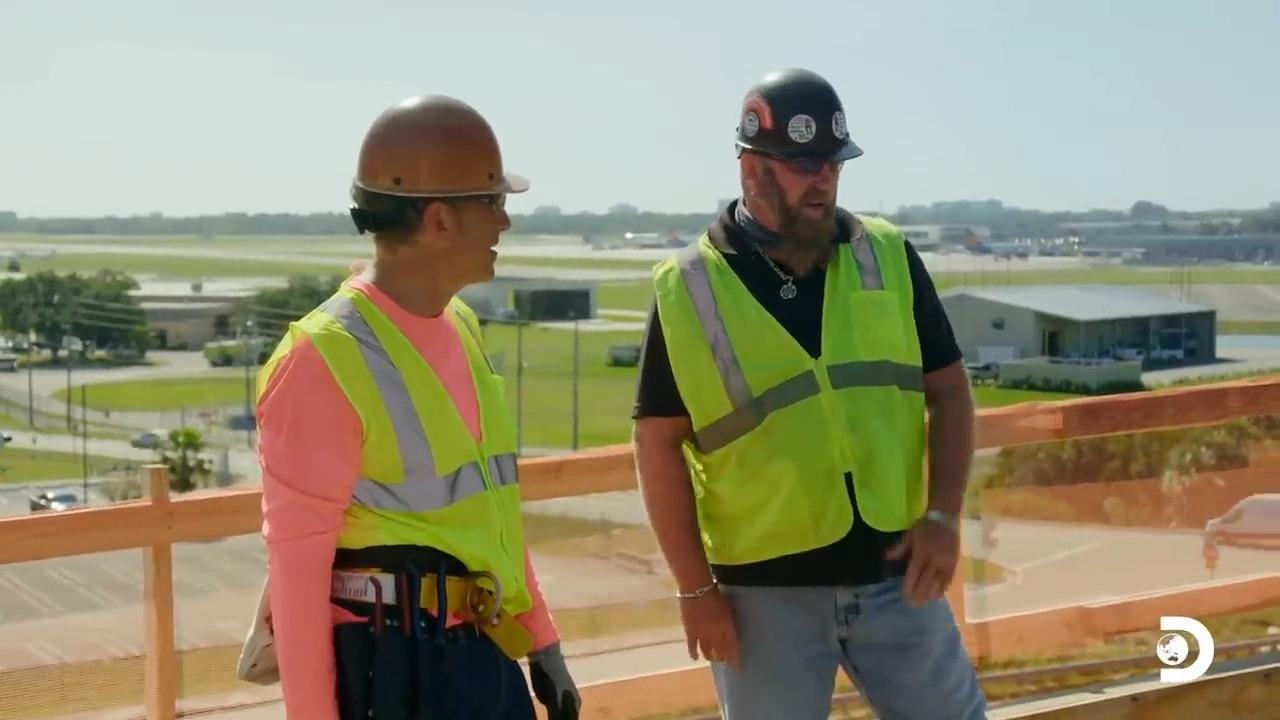Gloves: (521, 637, 585, 719)
Helmet: (734, 67, 863, 162)
Person: (630, 66, 989, 719), (252, 92, 582, 719)
Safety Vest: (669, 260, 941, 530), (315, 307, 509, 611)
bare-arms: (898, 521, 978, 608), (682, 575, 739, 666)
